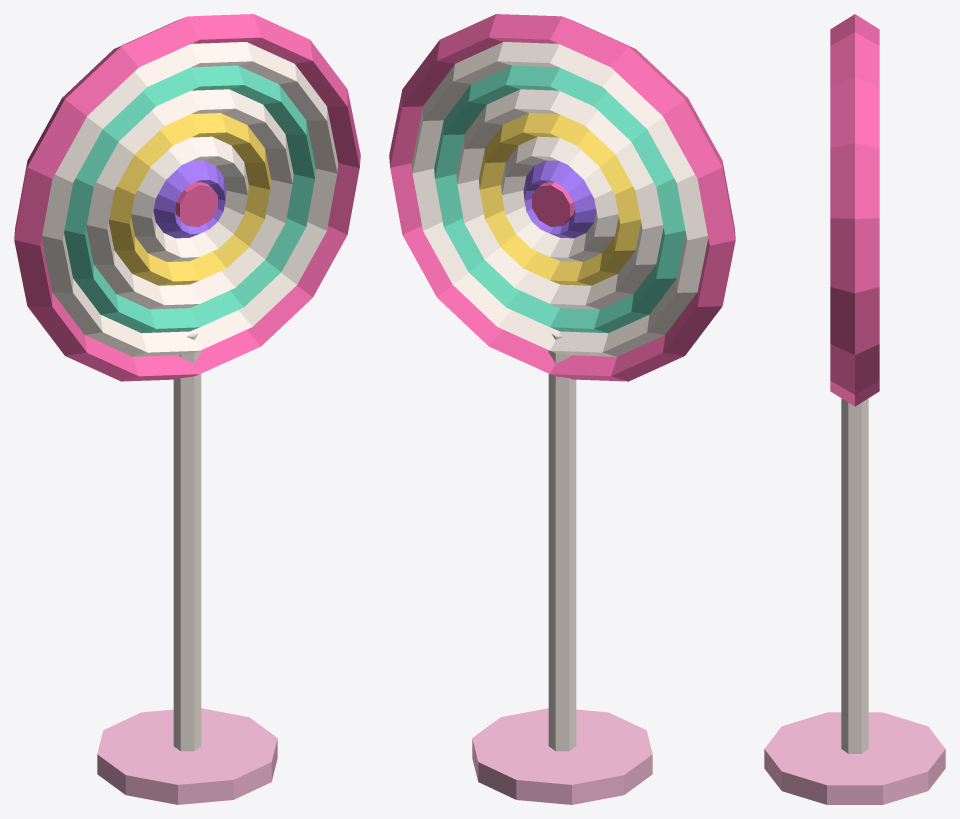
Rendered from Lollipop.fbx.
3 renders of one model, left to right at view 1: azimuth 30°, elevation 25°; view 2: azimuth 150°, elevation 25°; view 3: azimuth 270°, elevation 25°, orthographic.
Parts seen in each view (by area): view 1: Lollipop; view 2: Lollipop; view 3: Lollipop.
Boxes of the visible parts, x1=… form: Lollipop: x1=14, y1=14, x2=360, y2=804; Lollipop: x1=389, y1=14, x2=735, y2=804; Lollipop: x1=764, y1=14, x2=945, y2=804.
Size of the model in its own units: 434 by 897 by 200.
1 material, 1 textured.
